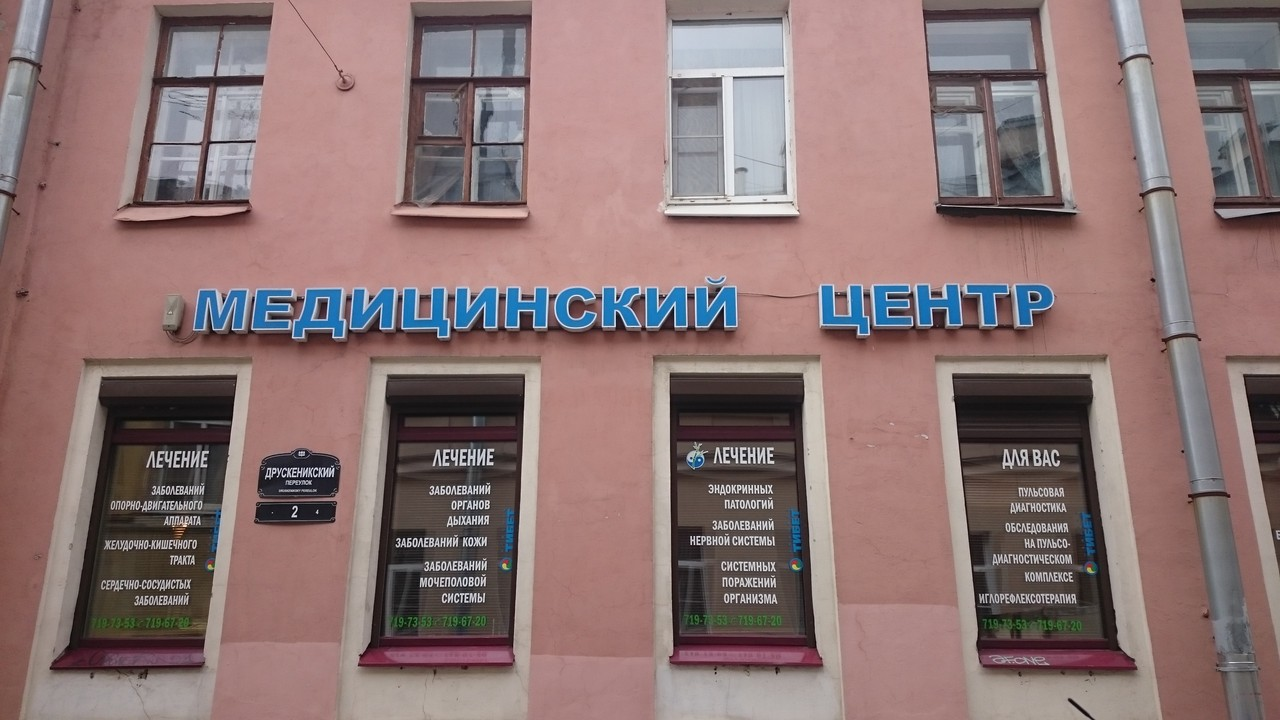signboard: (190, 273, 1057, 339)
window: (955, 375, 1120, 647), (373, 376, 522, 647), (84, 380, 236, 645), (675, 374, 804, 655), (132, 1, 274, 205), (923, 5, 1064, 204), (399, 12, 531, 206), (668, 17, 797, 206), (1184, 2, 1280, 206)
